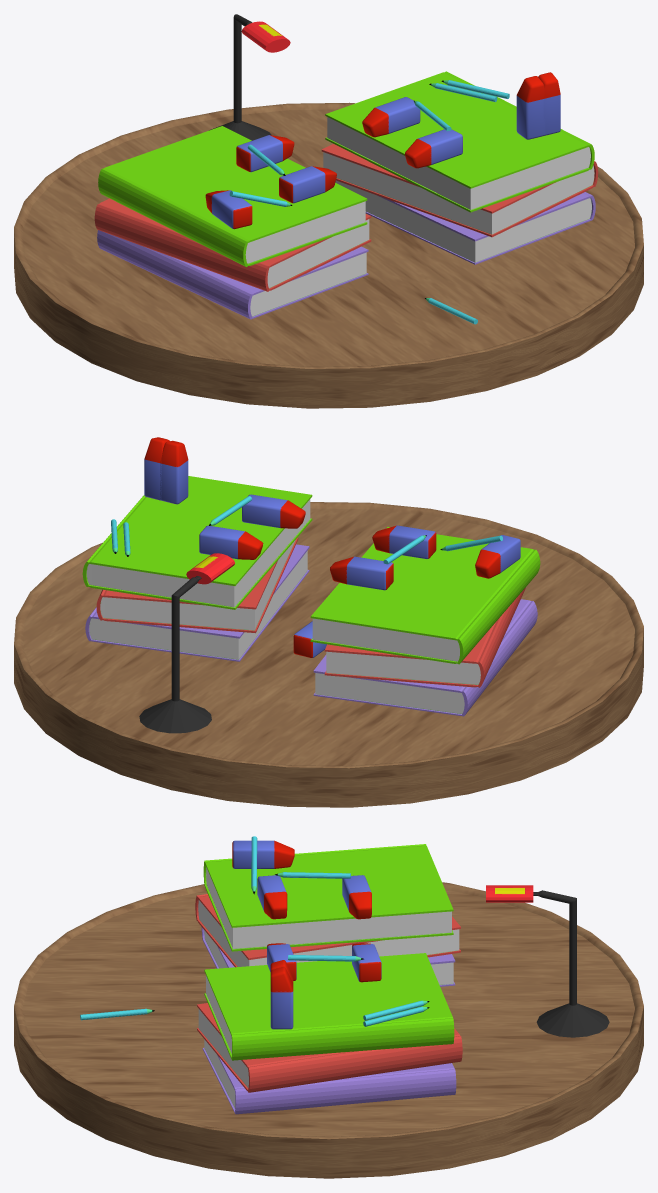
The model's file is Level_4_Modular.fbx.
3 views of the same model, one above another, from view 1: azimuth 30°, elevation 25°; view 2: azimuth 150°, elevation 25°; view 3: azimuth 270°, elevation 25° (orthographic).
Parts seen in each view (by area): view 1: TableLowPoly.001, Books.002, Books.001, Lamp.001, Rubber.006, Rubber.008, Rubber.007, Rubber.009, Rubber.010, Rubber.002, Rubber.003; view 2: TableLowPoly.001, Books.002, Books.001, Lamp.001, Rubber.010, Rubber.007, Rubber.006, Rubber.008, Rubber.009, Rubber.002, Rubber.003, Rubber.001; view 3: TableLowPoly.001, Books.001, Books.002, Lamp.001, Rubber.002, Rubber.003, Rubber.009, Rubber.010, Rubber.007, Rubber.008.
Part boxes in pixels (x1,y1,x2,y2): TableLowPoly.001: [14, 102, 643, 408]; Books.002: [94, 126, 371, 319]; Books.001: [321, 71, 598, 264]; Lamp.001: [209, 14, 290, 140]; Rubber.006: [516, 76, 545, 139]; Rubber.008: [404, 129, 462, 168]; Rubber.007: [362, 97, 420, 137]; Rubber.009: [279, 166, 336, 203]; Rubber.010: [236, 135, 294, 172]; Rubber.002: [205, 190, 252, 229]; Rubber.003: [538, 72, 560, 135]; TableLowPoly.001: [14, 502, 643, 807]; Books.002: [310, 527, 540, 716]; Books.001: [82, 476, 312, 661]; Lamp.001: [139, 553, 234, 733]; Rubber.010: [330, 556, 393, 590]; Rubber.007: [199, 525, 263, 559]; Rubber.006: [160, 440, 188, 504]; Rubber.008: [242, 494, 305, 528]; Rubber.009: [372, 525, 436, 558]; Rubber.002: [475, 535, 520, 578]; Rubber.003: [144, 437, 169, 500]; Rubber.001: [293, 621, 326, 657]; TableLowPoly.001: [14, 882, 643, 1178]; Books.001: [197, 953, 462, 1114]; Books.002: [195, 844, 460, 986]; Lamp.001: [486, 885, 609, 1037]; Rubber.002: [232, 840, 294, 868]; Rubber.003: [270, 967, 293, 1029]; Rubber.009: [257, 875, 287, 919]; Rubber.010: [342, 875, 371, 919]; Rubber.007: [352, 943, 381, 982]; Rubber.008: [267, 943, 296, 980].
Size of the model in its own units: 1120 by 336 by 1120.
